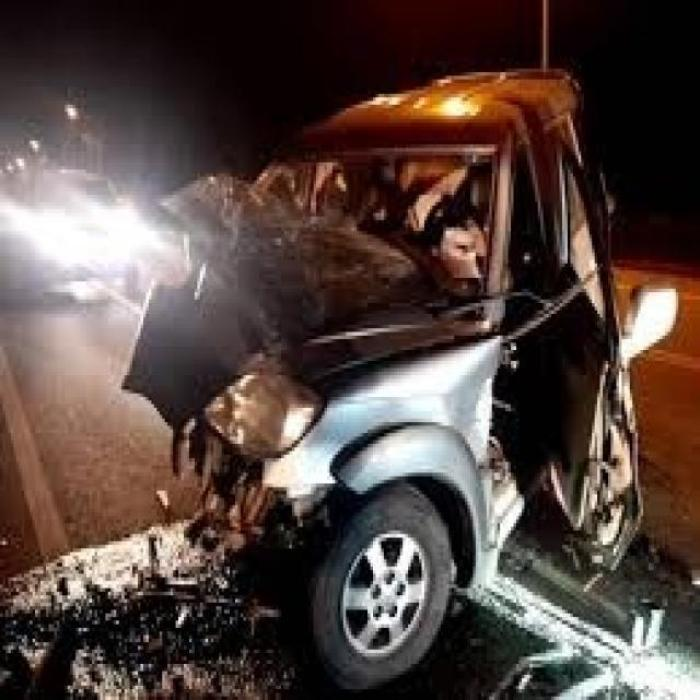Accident: (142, 79, 682, 691)
